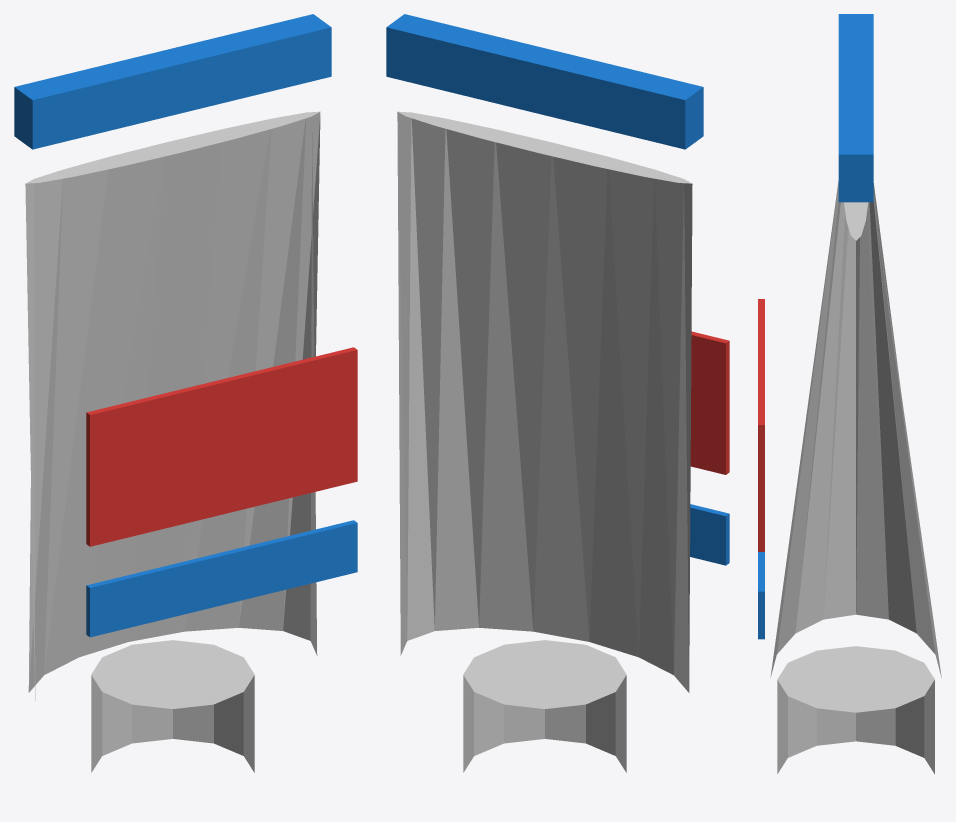
The model's file is tandkram.glb.
3 renders of one model, left to right at view 1: azimuth 30°, elevation 25°; view 2: azimuth 150°, elevation 25°; view 3: azimuth 270°, elevation 25°, orthographic. The views are drawn at different scales.
Parts seen in each view (by area): view 1: tandkram; view 2: tandkram; view 3: tandkram.
Part boxes in pixels (box(x1,y1,x2,y2)): tandkram: box(14, 14, 357, 772); tandkram: box(386, 14, 729, 772); tandkram: box(758, 14, 941, 774).
Bounding box in the file's own units: 0.19 × 0.435 × 0.105.
